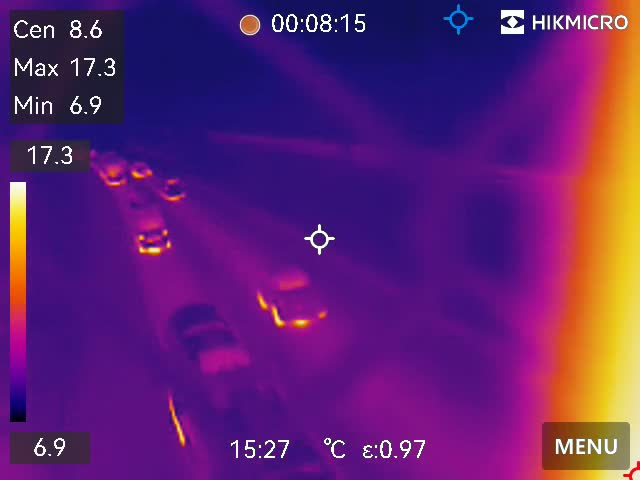vehicle: (252, 257, 335, 336), (126, 201, 172, 264), (155, 172, 187, 207), (129, 156, 152, 181)
